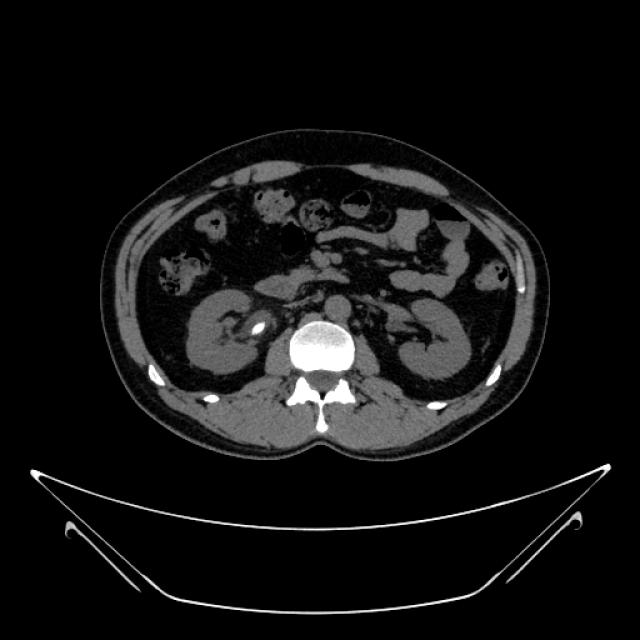kidneystone: (251, 321, 266, 335)
